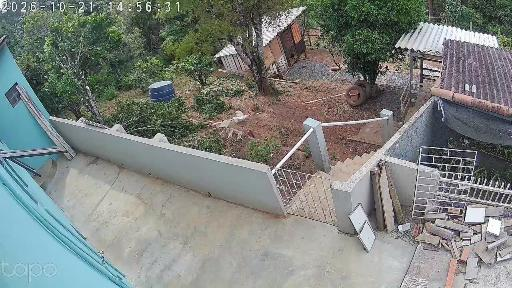galinha: (248, 106, 261, 119)
galo: (230, 111, 252, 124)
